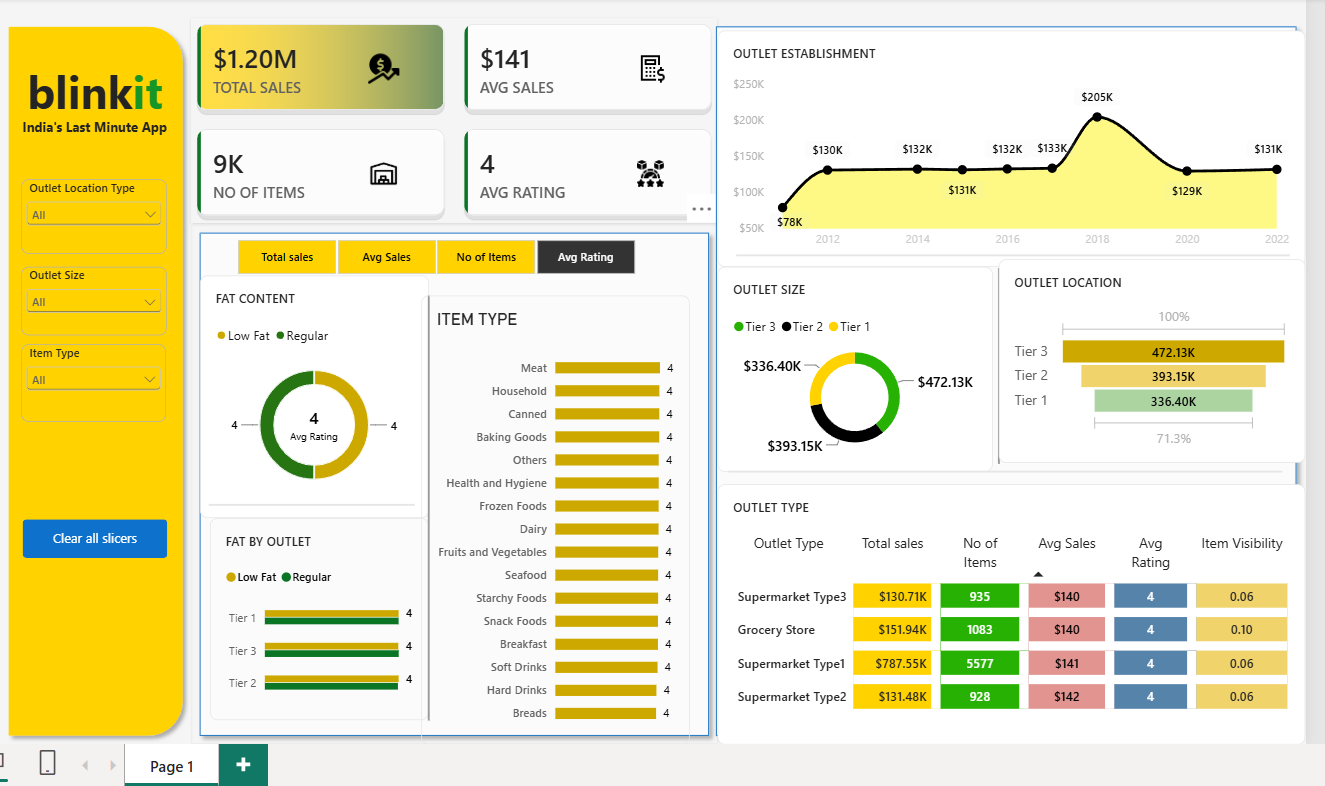

This screenshot's page, from the dashboard's own definition file:
{"tool":"powerbi","page":{"name":"Page 1","canvas":[1400,800],"ordinal":0},"visuals":[{"type":"shape","box":[0,21.4,205.1,778.8],"z":0},{"type":"textbox","box":[24.1,67,155.5,76.4],"z":1000},{"type":"textbox","box":[24.1,128.7,155.5,25.5],"z":2000},{"type":"cardVisual","fields":{"Data":["BlinkIT Grocery Data.Total sales","BlinkIT Grocery Data.Avg Sales","BlinkIT Grocery Data.No of Items","BlinkIT Grocery Data.Avg Rating"]},"box":[205.1,21.4,564.3,219.8],"z":3000},{"type":"shape","box":[205.1,242.6,564.3,557.6],"z":4000},{"type":"donutChart","title":"FAT CONTENT","fields":{"Category":["BlinkIT Grocery Data.Item Fat Content"],"Y":["BlinkIT Grocery Data.Avg Rating"]},"box":[214.5,297.6,245.3,260.1],"z":5000},{"type":"slicer","fields":{"Values":["Metrics.Metrics"]},"box":[234.6,257.4,465,40],"z":6000},{"type":"cardVisual","fields":{"Data":["BlinkIT Grocery Data.Avg Rating"]},"box":[276.1,422.3,122,72],"z":7000},{"type":"clusteredBarChart","title":"FAT BY OUTLET","fields":{"Category":["BlinkIT Grocery Data.Outlet Location Type"],"Series":["BlinkIT Grocery Data.Item Fat Content"],"Y":["BlinkIT Grocery Data.Avg Rating"]},"box":[225.2,557.6,234.6,217.2],"z":7001},{"type":"shape","box":[223.9,508,221.2,71],"z":7002},{"type":"shape","box":[453.1,319,13.4,455.8],"z":7003},{"type":"barChart","title":"ITEM TYPE","fields":{"Category":["BlinkIT Grocery Data.Item Type"],"Y":["BlinkIT Grocery Data.Avg Rating"]},"box":[451.7,318.8,288.2,481.2],"z":7004},{"type":"shape","box":[759.3,21.3,640.7,779.1],"z":7005},{"type":"lineChart","title":"OUTLET ESTABLISHMENT","fields":{"Category":["BlinkIT Grocery Data.Outlet Establishment Year"],"Y":["BlinkIT Grocery Data.Total sales"]},"box":[769.4,34.9,630,253.4],"z":7006},{"type":"shape","box":[789.8,254.1,593.5,42.6],"z":7007},{"type":"donutChart","title":"OUTLET SIZE","fields":{"Category":["BlinkIT Grocery Data.Outlet Location Type"],"Y":["BlinkIT Grocery Data.Total sales"]},"box":[769.4,288.2,294.9,219.8],"z":7008},{"type":"shape","box":[1063.7,289.1,13.7,210],"z":7009},{"type":"funnel","title":"OUTLET LOCATION","fields":{"Category":["BlinkIT Grocery Data.Outlet Location Type"],"Y":["Sum(BlinkIT Grocery Data.Sales)"]},"box":[1071.1,280.2,328.4,218.5],"z":7010},{"type":"shape","box":[782.2,487,593.5,42.6],"z":7011},{"type":"pivotTable","title":"OUTLET TYPE","fields":{"Rows":["BlinkIT Grocery Data.Outlet Type"],"Values":["BlinkIT Grocery Data.Total sales","BlinkIT Grocery Data.No of Items","BlinkIT Grocery Data.Avg Sales","BlinkIT Grocery Data.Avg Rating","Avg(BlinkIT Grocery Data.Item Visibility)"]},"box":[769.4,521.5,630,278.8],"z":7012},{"type":"slicer","fields":{"Values":["BlinkIT Grocery Data.Outlet Location Type"]},"box":[22.8,194.4,156.4,80.1],"z":7013},{"type":"slicer","fields":{"Values":["BlinkIT Grocery Data.Outlet Size"]},"box":[23.4,288.4,155.9,73.3],"z":7014},{"type":"slicer","fields":{"Values":["BlinkIT Grocery Data.Item Type"]},"box":[22.8,371.3,155.5,83.1],"z":7015},{"type":"actionButton","box":[24.1,559,155.5,41.6],"z":7016}]}

Visuals, with their boxes on the page's 1400x800 design canvas (x1, y1, x2, y2). These are canvas units, not pixel positions in the 1325x786 screenshot, which may show the page scaled, cropped or inside an application window:
shape: 0:21:205:800
textbox: 24:67:180:143
textbox: 24:129:180:154
cardVisual - BlinkIT Grocery Data.Total sales x BlinkIT Grocery Data.Avg Sales: 205:21:769:241
shape: 205:243:769:800
"FAT CONTENT" donutChart: 214:298:460:558
slicer - Metrics.Metrics: 235:257:700:297
cardVisual - BlinkIT Grocery Data.Avg Rating: 276:422:398:494
"FAT BY OUTLET" clusteredBarChart: 225:558:460:775
shape: 224:508:445:579
shape: 453:319:466:775
"ITEM TYPE" barChart: 452:319:740:800
shape: 759:21:1400:800
"OUTLET ESTABLISHMENT" lineChart: 769:35:1399:288
shape: 790:254:1383:297
"OUTLET SIZE" donutChart: 769:288:1064:508
shape: 1064:289:1077:499
"OUTLET LOCATION" funnel: 1071:280:1400:499
shape: 782:487:1376:530
"OUTLET TYPE" pivotTable: 769:522:1399:800
slicer - BlinkIT Grocery Data.Outlet Location Type: 23:194:179:274
slicer - BlinkIT Grocery Data.Outlet Size: 23:288:179:362
slicer - BlinkIT Grocery Data.Item Type: 23:371:178:454
actionButton: 24:559:180:601
